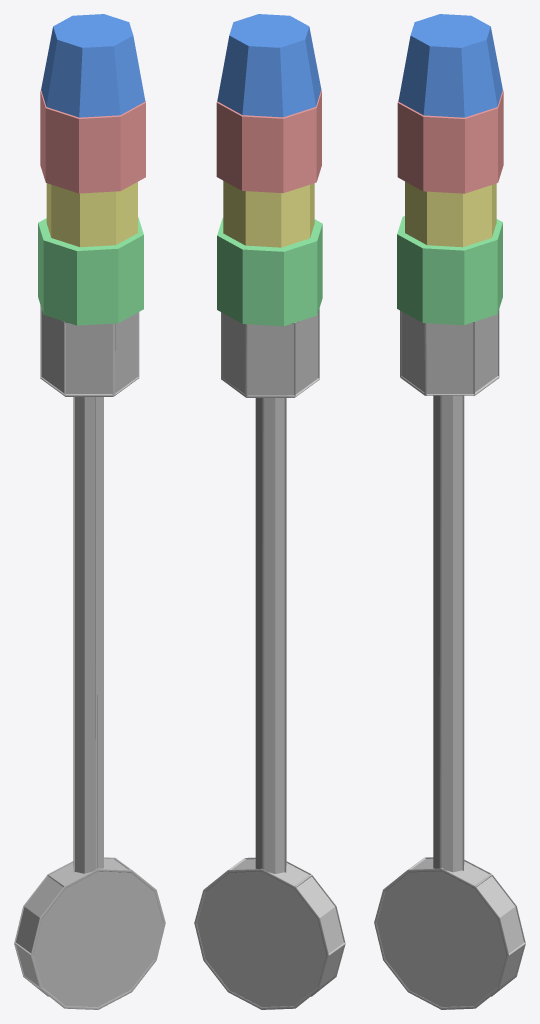
Rendered from deng.fbx.
3 renders of one model, left to right at view 1: azimuth 30°, elevation 25°; view 2: azimuth 150°, elevation 25°; view 3: azimuth 330°, elevation 25°, orthographic.
Visible parts, largest first — view 1: 柱体_002, 蓝色, 绿色, 红色, 黄色; view 2: 柱体_002, 蓝色, 绿色, 红色, 黄色; view 3: 柱体_002, 蓝色, 绿色, 红色, 黄色.
Boxes of the visible parts, x1,y1,x2,y2 form: 柱体_002: [14, 305, 165, 1009]; 蓝色: [41, 14, 145, 117]; 绿色: [38, 217, 143, 325]; 红色: [40, 90, 145, 193]; 黄色: [46, 182, 137, 247]; 柱体_002: [194, 308, 345, 1009]; 蓝色: [217, 14, 321, 117]; 绿色: [217, 218, 322, 326]; 红色: [216, 90, 321, 193]; 黄色: [223, 181, 314, 247]; 柱体_002: [374, 309, 525, 1009]; 蓝色: [398, 14, 502, 117]; 绿色: [397, 216, 502, 325]; 红色: [397, 90, 503, 193]; 黄色: [405, 181, 496, 247].
Bounding box in the file's own units: 7.35 × 50.65 × 5.24.
